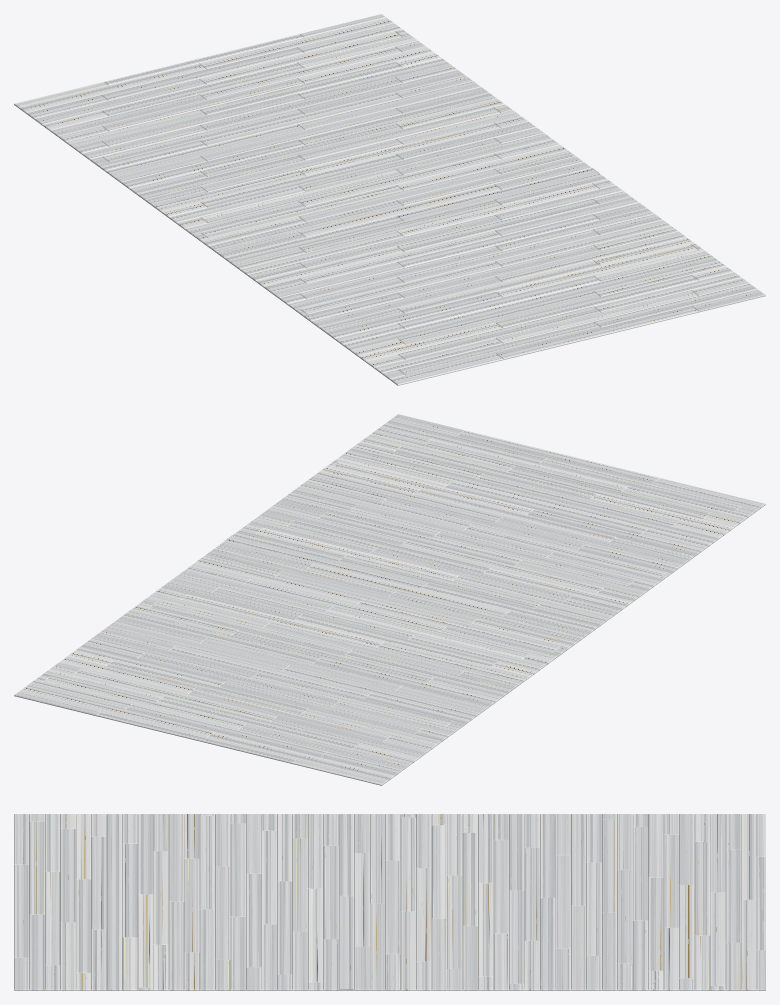
File: floor.fbx
3 renders of one model, top to bottom at view 1: azimuth 30°, elevation 25°; view 2: azimuth 150°, elevation 25°; view 3: azimuth 270°, elevation 25°, orthographic. The views are drawn at different scales.
Parts seen in each view (by area): view 1: Plane001; view 2: Plane001; view 3: Plane001.
Part boxes in pixels (x1=…): Plane001: x1=14, y1=14, x2=765, y2=385; Plane001: x1=14, y1=414, x2=765, y2=785; Plane001: x1=14, y1=814, x2=765, y2=990.
Bounding box in the file's own units: 19654 × 65.67 × 35520.
